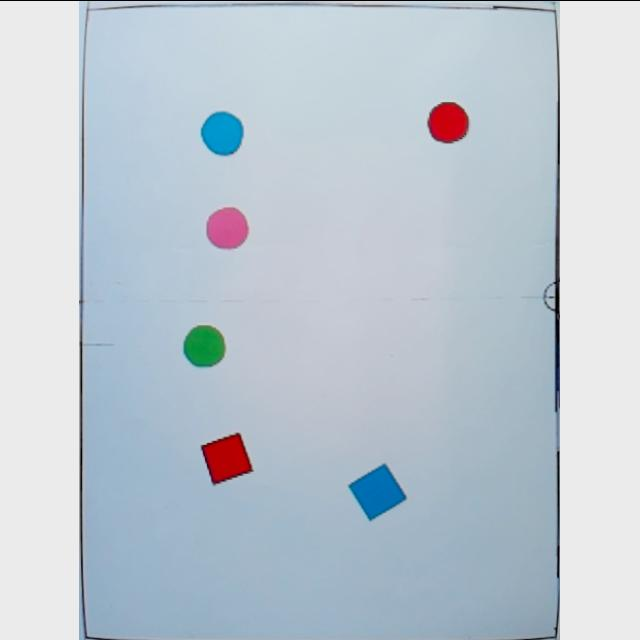blueCircle: (201, 110, 247, 154)
blueSquare: (348, 462, 409, 520)
greenCircle: (184, 324, 230, 368)
pinkCircle: (206, 206, 252, 250)
redCircle: (428, 100, 472, 144)
redSquare: (200, 430, 256, 486)
